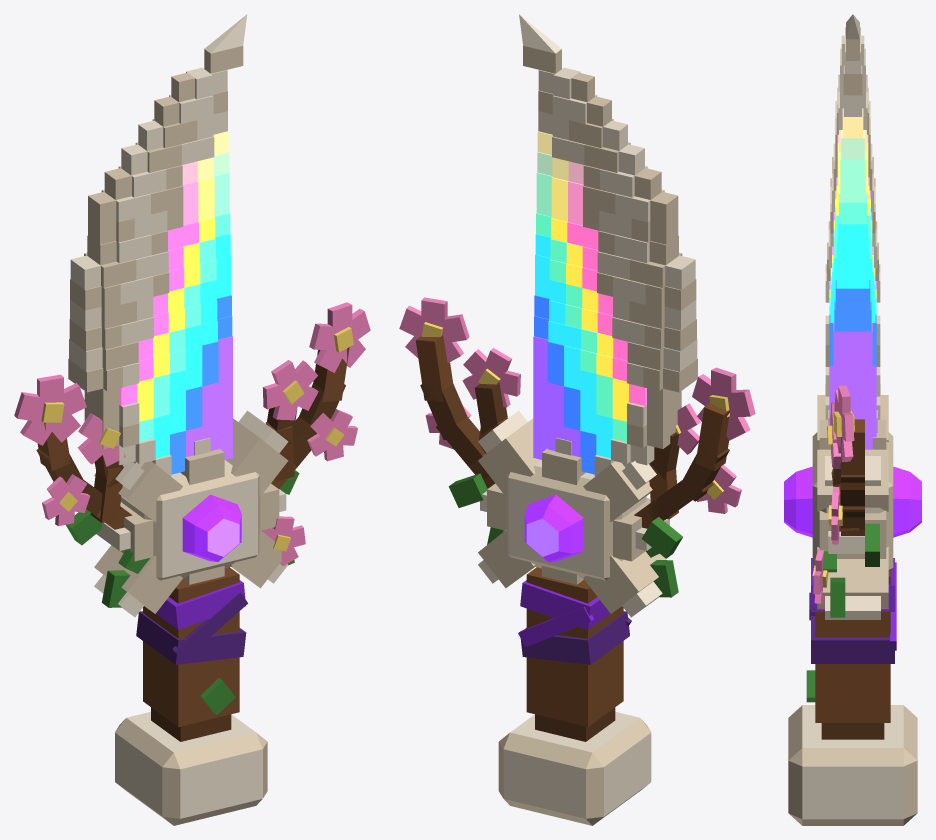
The model's file is glimmerhorn_daggers.glb.
3 views of the same model, side by side, from view 1: azimuth 30°, elevation 25°; view 2: azimuth 150°, elevation 25°; view 3: azimuth 270°, elevation 25° (orthographic). The views are drawn at different scales.
Visible parts, largest first — view 1: Blade_ivory_shade, Blade_ivory, Guard_ivory_shade, Blossoms_blossom_petal, Pommel_ivory, Guard_ivory, Grip_wood, Pommel_ivory_shade, Rainbow_rainbow_cyan, Wraps_wrap_dark, Antlers_wood, Rainbow_rainbow_mint (+16 smaller); view 2: Blade_ivory_shade, Blade_ivory, Guard_ivory_shade, Blossoms_blossom_petal, Pommel_ivory, Grip_wood, Guard_ivory, Antlers_wood_dark, Antlers_wood, Pommel_ivory_shade, Rainbow_rainbow_cyan, Rainbow_rainbow_mint (+14 smaller); view 3: Pommel_ivory, Guard_ivory_shade, Grip_wood, Pommel_ivory_shade, Blade_ivory, Rainbow_rainbow_violet, Gem_gem, Rainbow_rainbow_cyan, Guard_ivory, Wraps_wrap_dark, Blossoms_blossom_petal, Blade_ivory_shade (+14 smaller).
Boxes of the visible parts, left/top/right/bottom form: Blade_ivory_shade: left=68, top=46, right=243, bottom=448; Blade_ivory: left=69, top=14, right=247, bottom=476; Guard_ivory_shade: left=94, top=418, right=288, bottom=613; Blossoms_blossom_petal: left=14, top=302, right=370, bottom=566; Pommel_ivory: left=115, top=712, right=262, bottom=818; Guard_ivory: left=94, top=410, right=288, bottom=617; Grip_wood: left=143, top=567, right=239, bottom=726; Pommel_ivory_shade: left=115, top=718, right=267, bottom=825; Rainbow_rainbow_cyan: left=153, top=234, right=231, bottom=457; Wraps_wrap_dark: left=136, top=592, right=247, bottom=664; Antlers_wood: left=37, top=347, right=349, bottom=529; Rainbow_rainbow_mint: left=139, top=213, right=230, bottom=441; Blade_ivory_shade: left=523, top=46, right=697, bottom=448; Blade_ivory: left=519, top=14, right=697, bottom=476; Guard_ivory_shade: left=478, top=418, right=666, bottom=613; Blossoms_blossom_petal: left=399, top=297, right=755, bottom=513; Pommel_ivory: left=503, top=711, right=651, bottom=818; Grip_wood: left=526, top=567, right=623, bottom=726; Guard_ivory: left=478, top=410, right=669, bottom=617; Antlers_wood_dark: left=420, top=383, right=729, bottom=520; Antlers_wood: left=415, top=335, right=729, bottom=528; Pommel_ivory_shade: left=498, top=718, right=651, bottom=825; Rainbow_rainbow_cyan: left=535, top=234, right=612, bottom=458; Rainbow_rainbow_mint: left=536, top=213, right=626, bottom=441; Pommel_ivory: left=802, top=705, right=903, bottom=819; Guard_ivory_shade: left=812, top=395, right=893, bottom=609; Grip_wood: left=815, top=570, right=890, bottom=722; Pommel_ivory_shade: left=788, top=705, right=917, bottom=825; Blade_ivory: left=825, top=14, right=880, bottom=419; Rainbow_rainbow_violet: left=829, top=323, right=876, bottom=449; Gem_gem: left=784, top=466, right=921, bottom=537; Rainbow_rainbow_cyan: left=829, top=215, right=876, bottom=322; Guard_ivory: left=825, top=384, right=880, bottom=619; Wraps_wrap_dark: left=809, top=592, right=894, bottom=663; Blossoms_blossom_petal: left=813, top=385, right=854, bottom=603; Blade_ivory_shade: left=825, top=27, right=880, bottom=366.
Size of the model in its own units: 0.4032 by 0.84 by 0.128.
